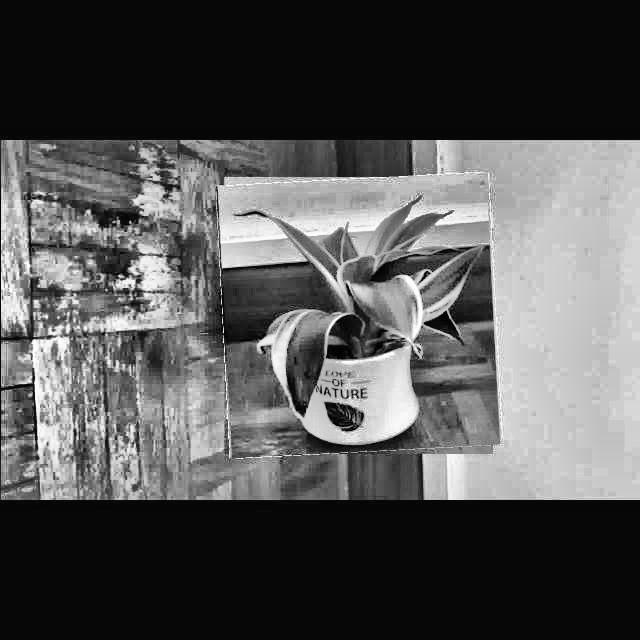plants: (218, 176, 498, 456)
